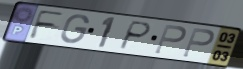1: (97, 16, 118, 50)
F: (27, 9, 67, 40)
G: (60, 13, 91, 45)
P: (153, 23, 189, 56), (181, 26, 217, 59), (116, 20, 153, 51)
